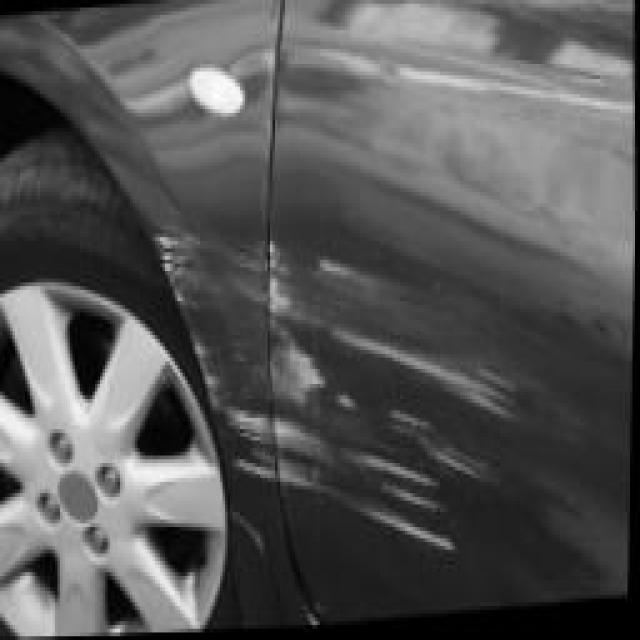Door: (262, 203, 558, 579)
Fender: (142, 188, 278, 535)
